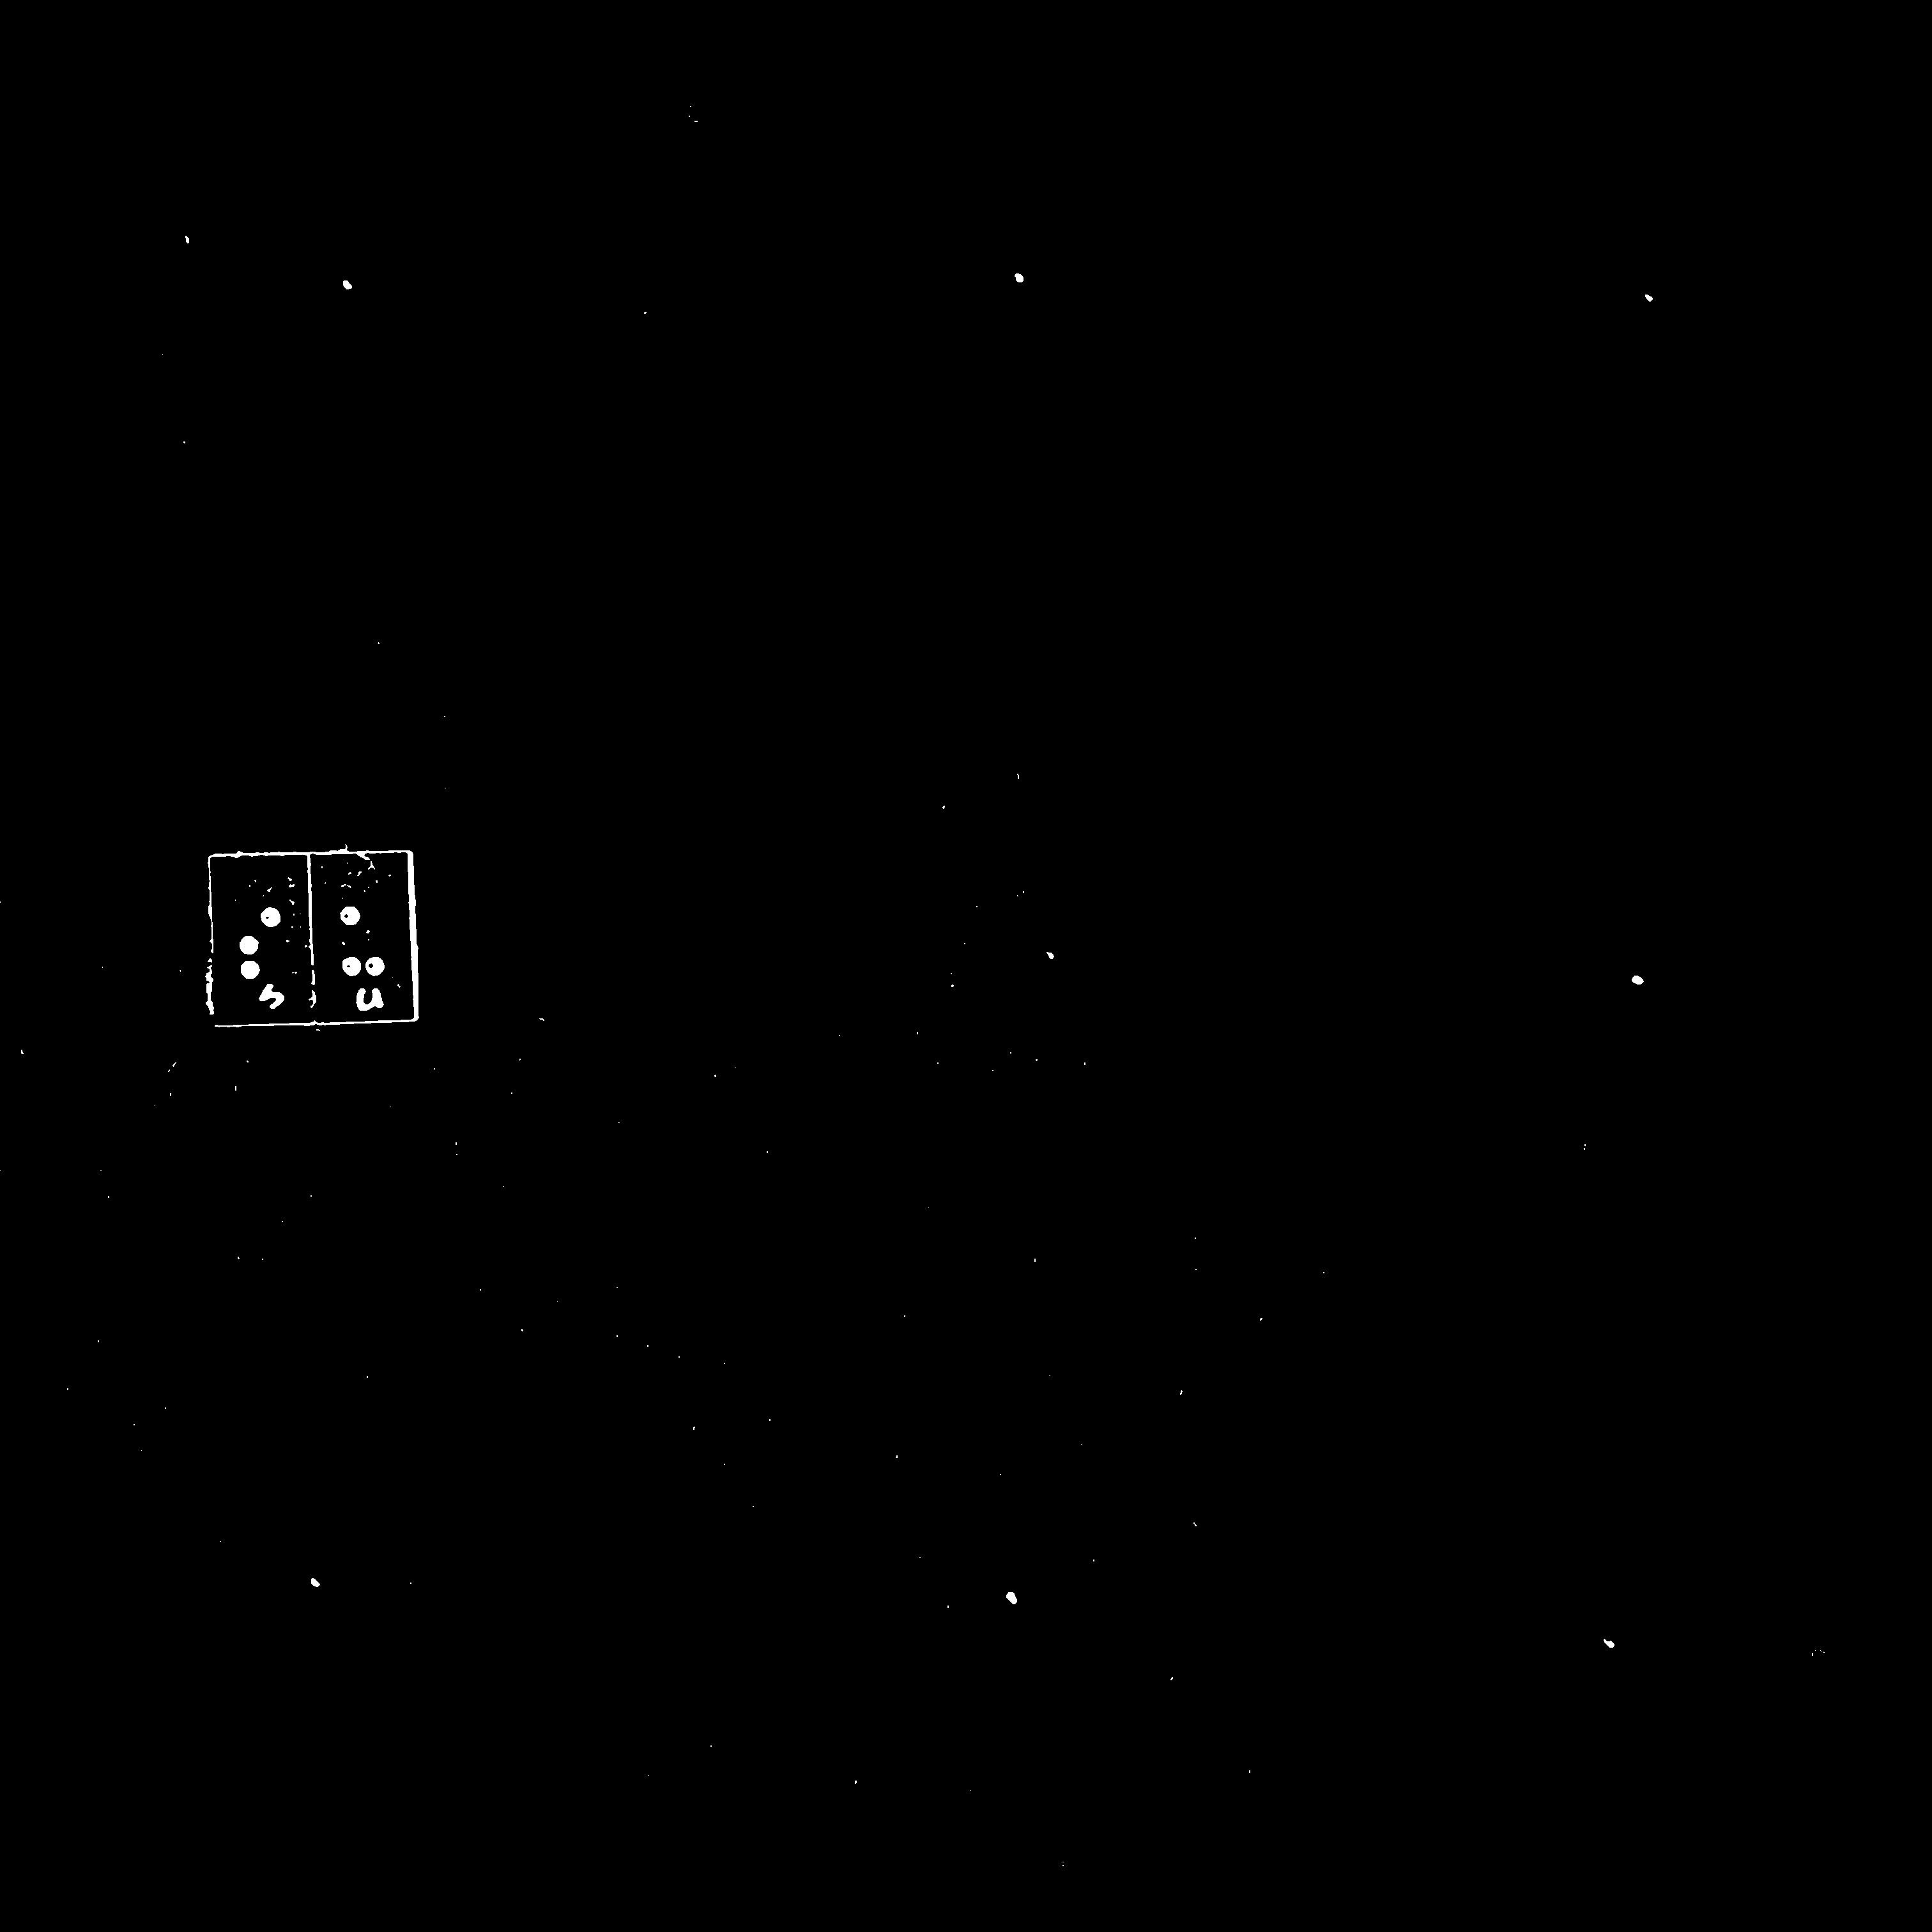s: (232, 899, 289, 983)
u: (333, 899, 390, 980)
